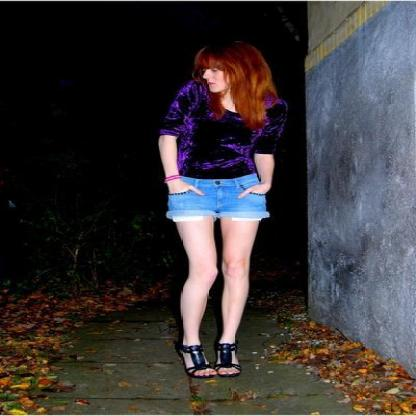shirt: (159, 77, 287, 181)
shoe: (182, 341, 238, 379)
shorts: (166, 174, 268, 240)
